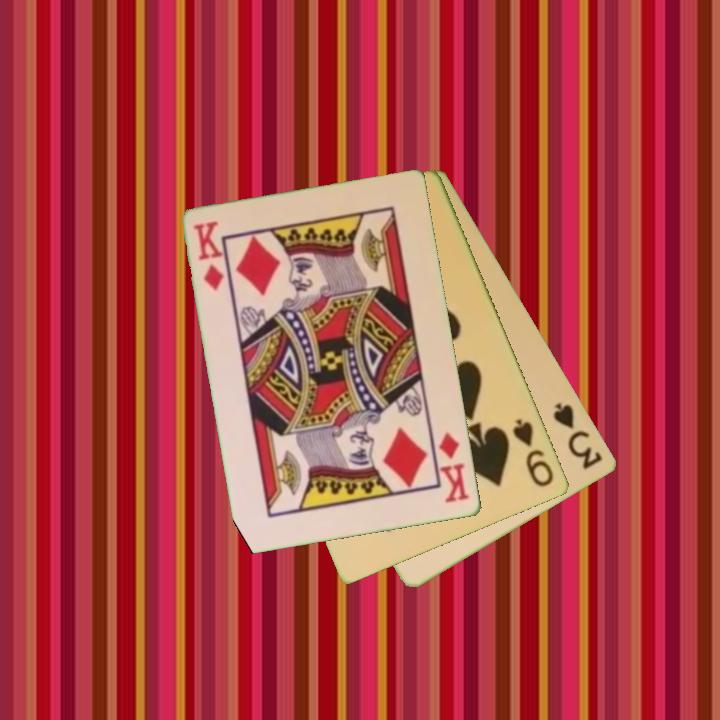3s: (550, 399, 606, 472)
9s: (509, 415, 557, 490)
Kd: (430, 427, 473, 506), (190, 218, 227, 294)
